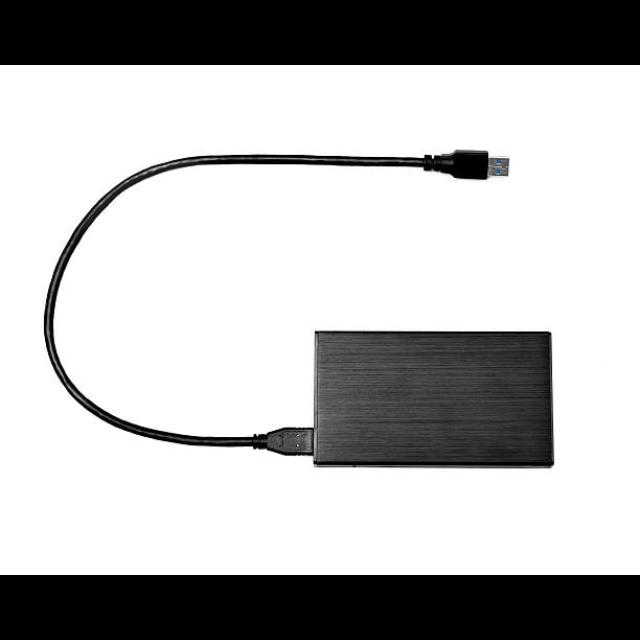HDD: (313, 331, 555, 471)
